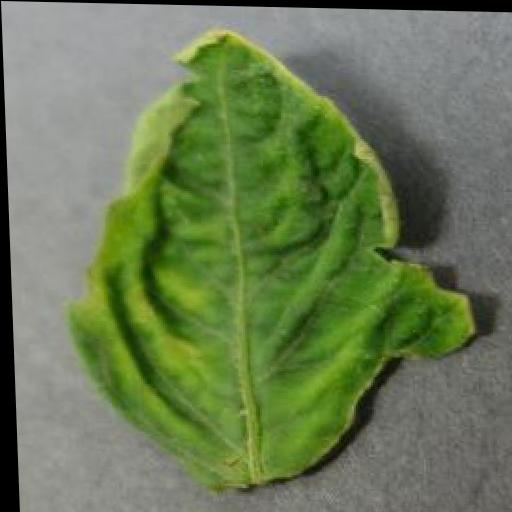Yellow Leaf Curl Virus: (57, 25, 475, 499)
